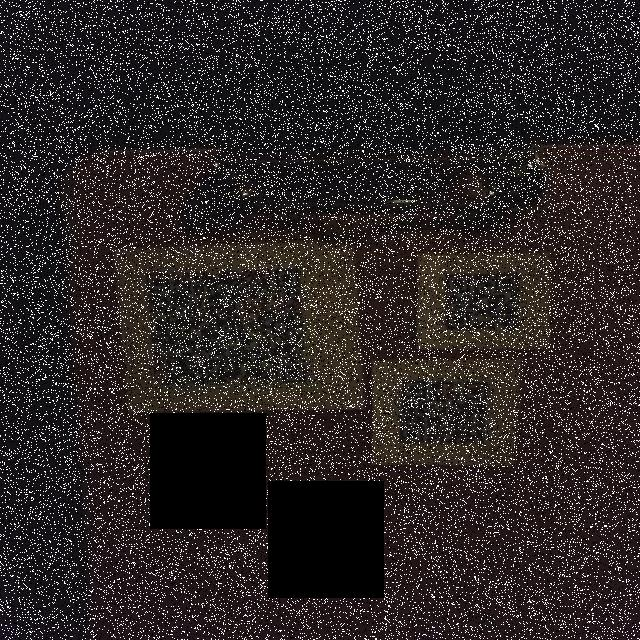QR_CODE: (132, 254, 318, 400), (383, 371, 502, 460), (428, 258, 536, 342)
